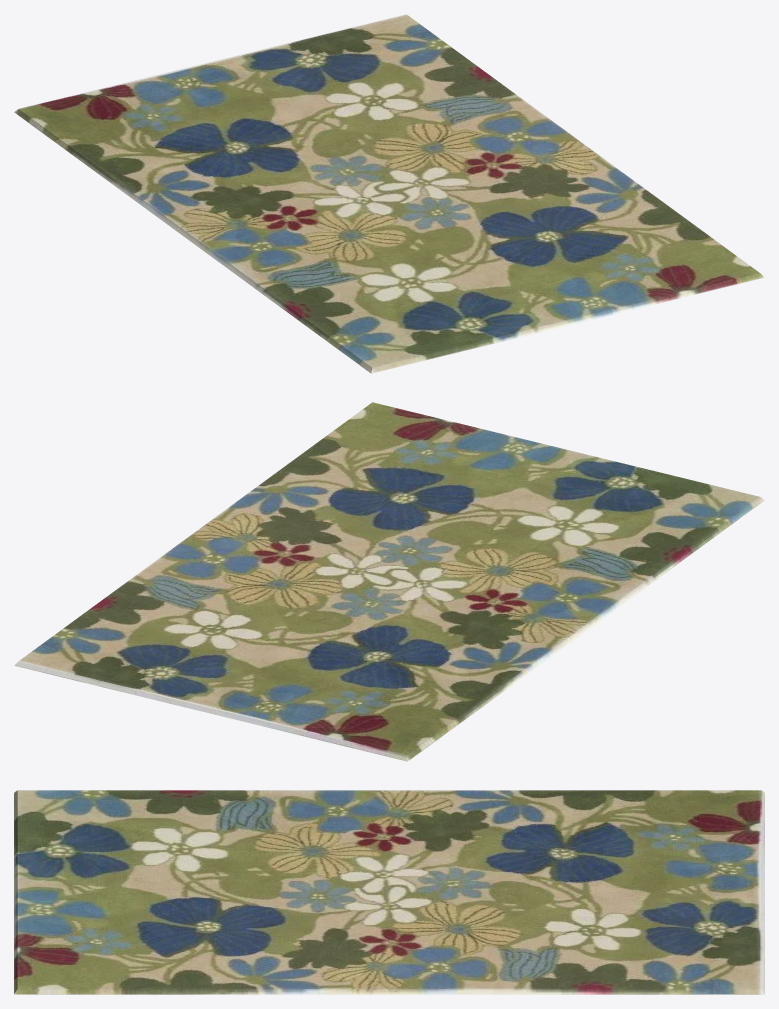
The picture shows the model from 3 angles, top to bottom: view 1: azimuth 30°, elevation 25°; view 2: azimuth 150°, elevation 25°; view 3: azimuth 270°, elevation 25°; orthographic projection. The views are drawn at different scales.
Visible parts, largest first — view 1: B001DA0KU6; view 2: B001DA0KU6; view 3: B001DA0KU6.
Boxes of the visible parts, x1,y1,x2,y2 form: B001DA0KU6: [14, 14, 764, 373]; B001DA0KU6: [14, 402, 764, 761]; B001DA0KU6: [14, 790, 764, 994].
Bounding box in the file's own units: 1.07 × 0.01 × 1.68.
Materials: 1 (1 with a texture image).
